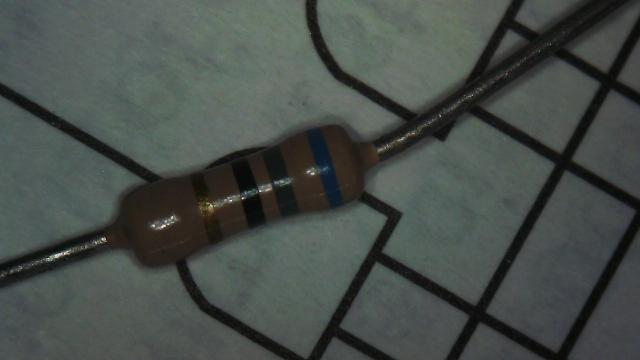black: (231, 156, 266, 228)
blue: (306, 128, 343, 207)
gold: (191, 172, 222, 242)
grey: (261, 146, 300, 216)
resistor: (86, 77, 406, 297)
